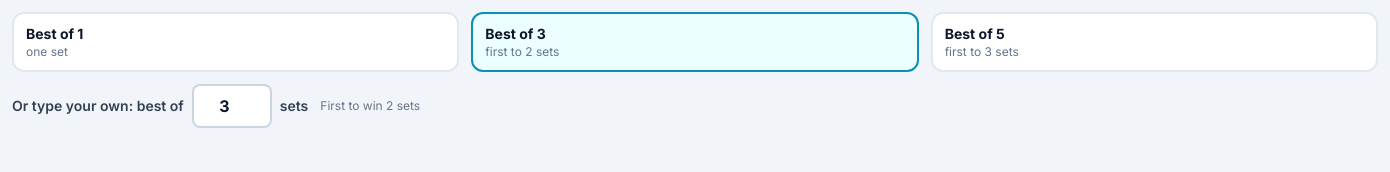
Test: SetsPicker (admin types the number of sets) › a number above 21 is refused and the last valid value comes back on blur
The image size is (1390, 172).
Replace the text in the number field named "custom number of sets" with "22". click: (232, 106)
box: [192,84,272,128]
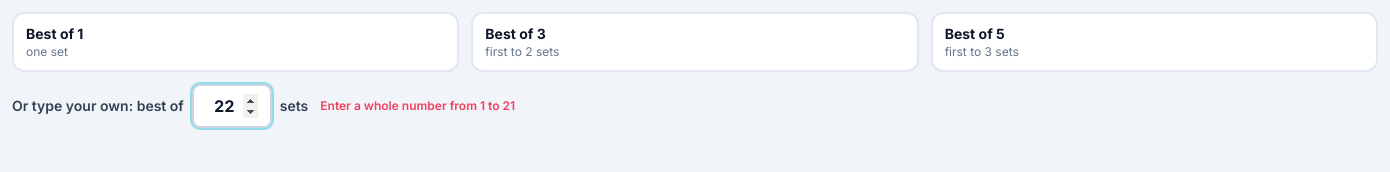
Result: the text "Enter a whole number from 1 to 21" is shown at [320,98,515,114]
Press Tab
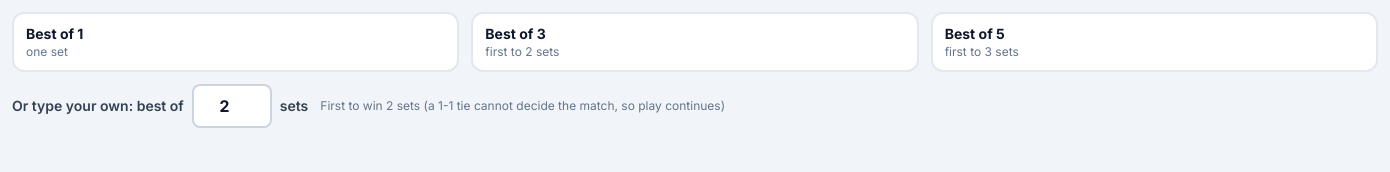
Result: the number field named "custom number of sets" holds "2" at [192,84,272,128]
